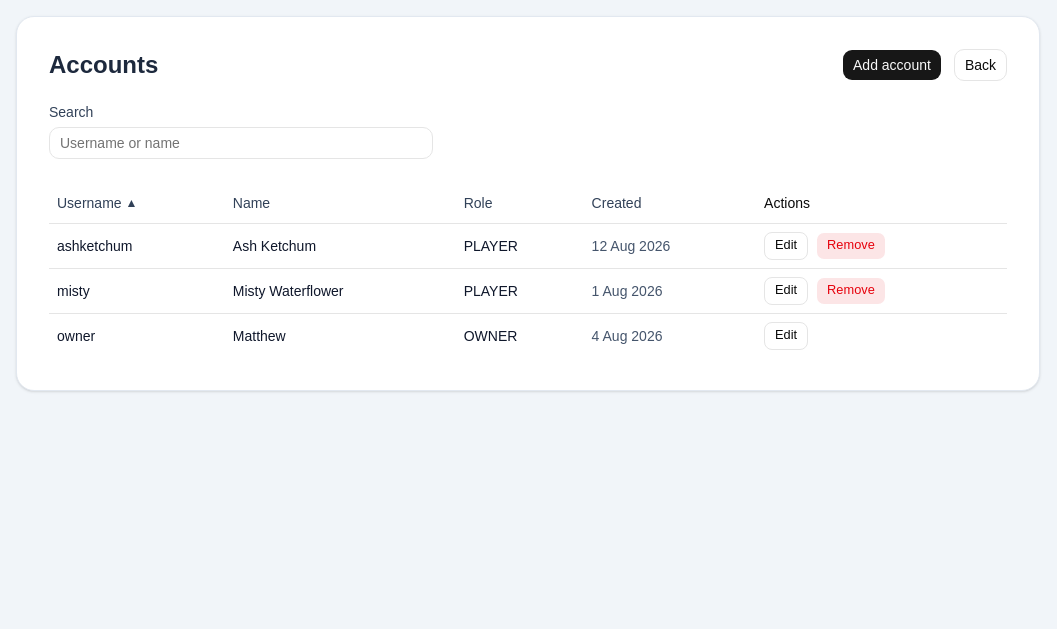
AccountsPage › changes a person name from the edit form and shows the new value in the table
Check: the text "ashketchum" is shown, box [49, 223, 225, 268]
Click the button with aria-label "Edit misty" at (786, 290), box [764, 276, 808, 304]
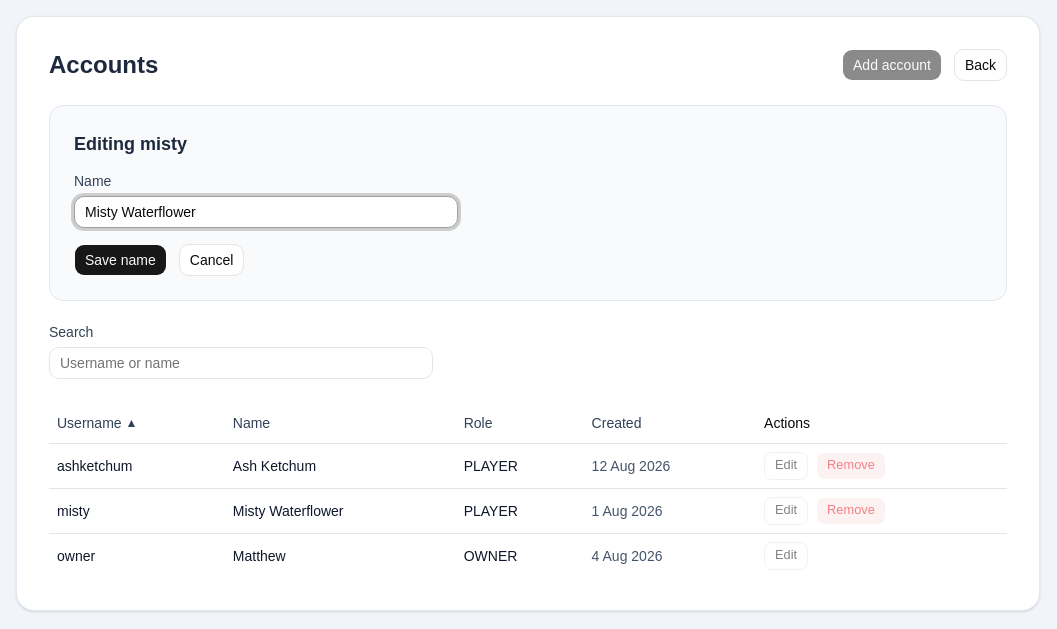
Replace the text in the field labelled "Name" with "Misty W." at (266, 212), box [74, 196, 458, 228]
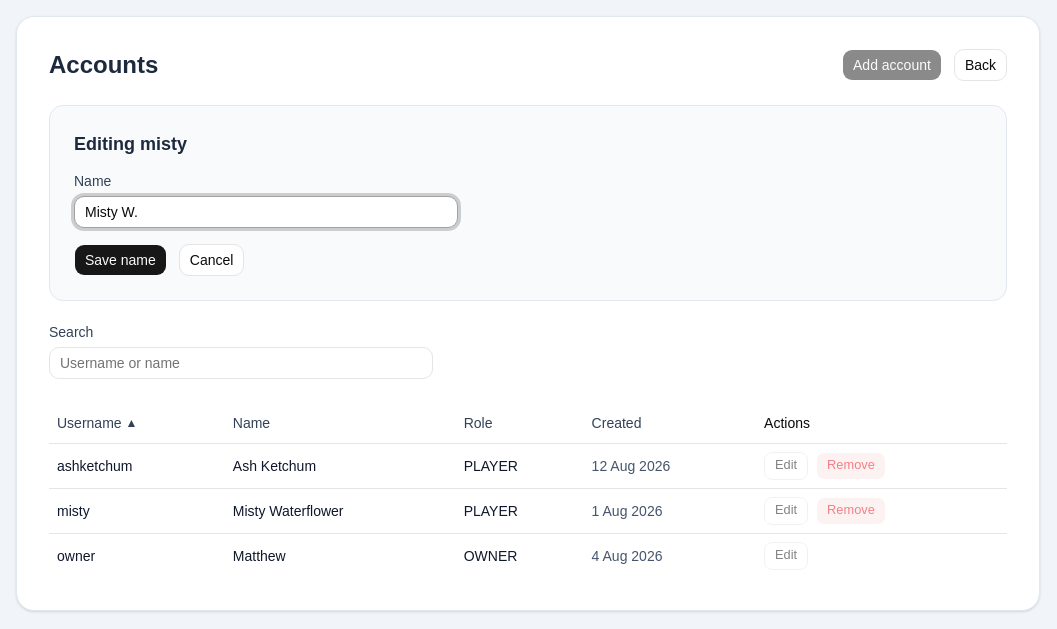
Click the button "Save name" at (120, 260), box [74, 244, 167, 276]
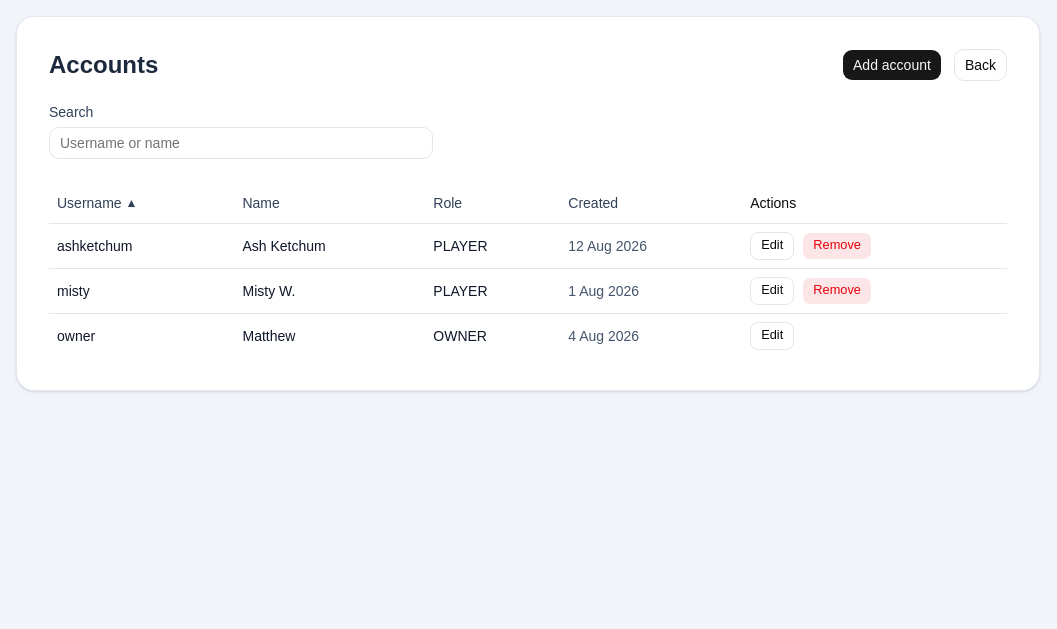
Check: the text "Misty W." is shown, box [234, 268, 425, 313]
Check: the text "Misty Waterflower" is gone
